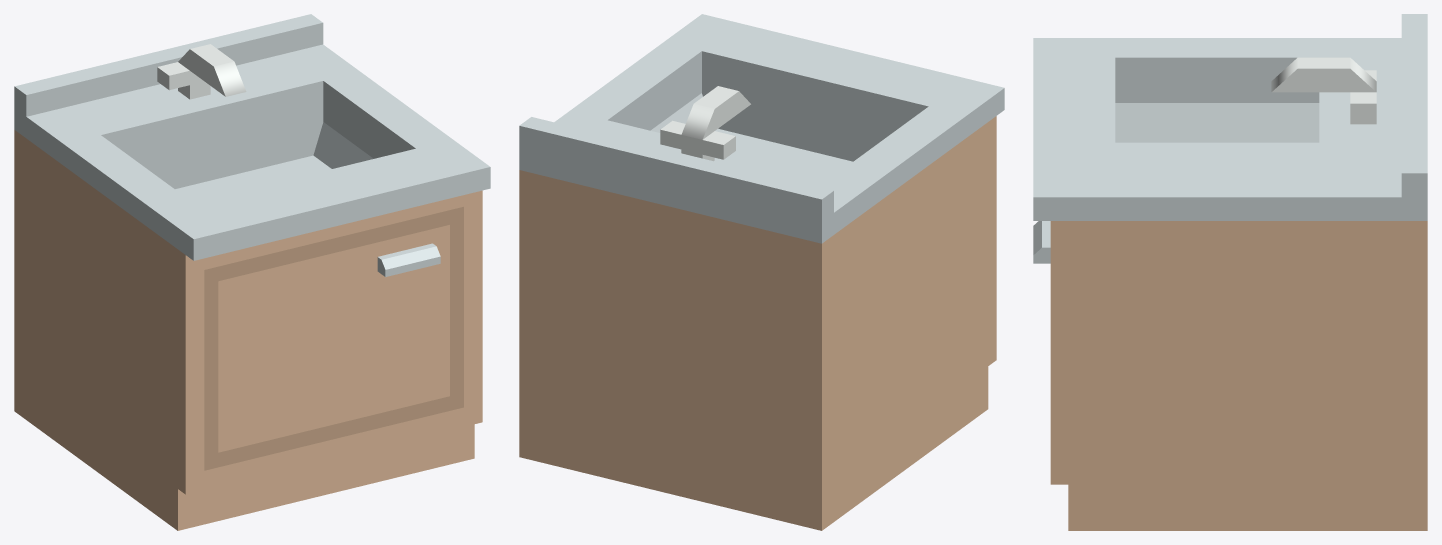
File: kitchenSink.glb
3 renders of one model, left to right at view 1: azimuth 30°, elevation 25°; view 2: azimuth 150°, elevation 25°; view 3: azimuth 270°, elevation 25°, orthographic. The views are drawn at different scales.
Visible parts, largest first — view 1: kitchenSink(Clone), door; view 2: kitchenSink(Clone); view 3: kitchenSink(Clone).
Boxes of the visible parts, left/top/right/bottom form: kitchenSink(Clone): left=14, top=14, right=490, bottom=530; door: left=204, top=206, right=463, bottom=470; kitchenSink(Clone): left=519, top=14, right=1004, bottom=530; kitchenSink(Clone): left=1033, top=14, right=1427, bottom=530.
Size of the model in its own units: 0.43 by 0.49 by 0.45.
